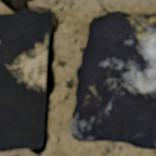brick: (70, 12, 155, 148), (0, 10, 50, 150)
crack: (0, 0, 58, 154)
